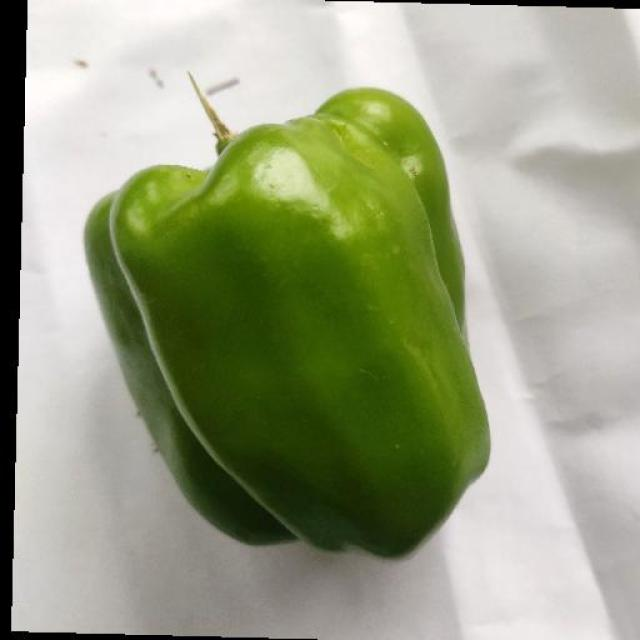Fresh_Capsicum: (126, 174, 515, 530)
